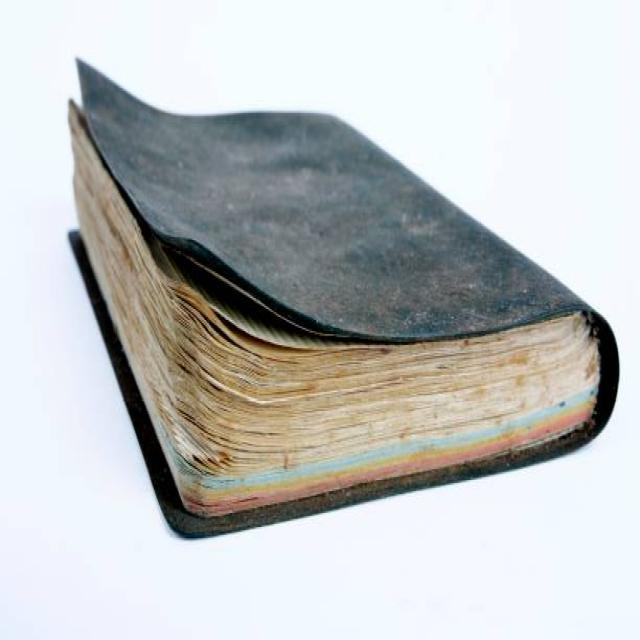electronic: (66, 53, 620, 538)
